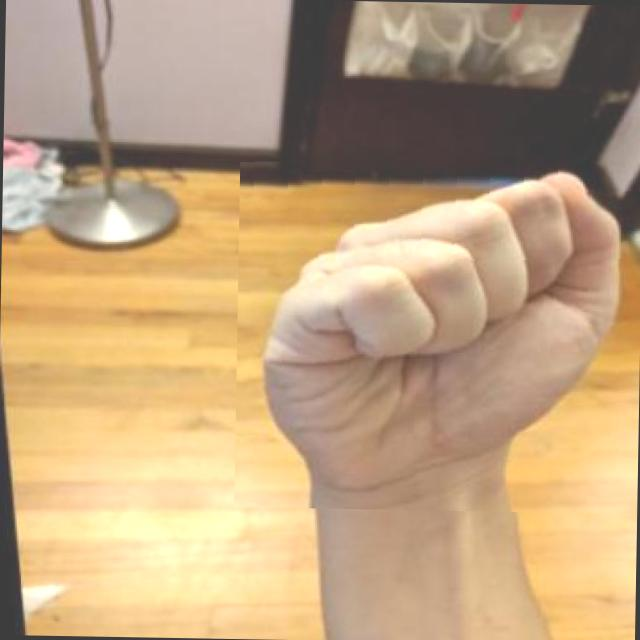A: (234, 149, 640, 513)
